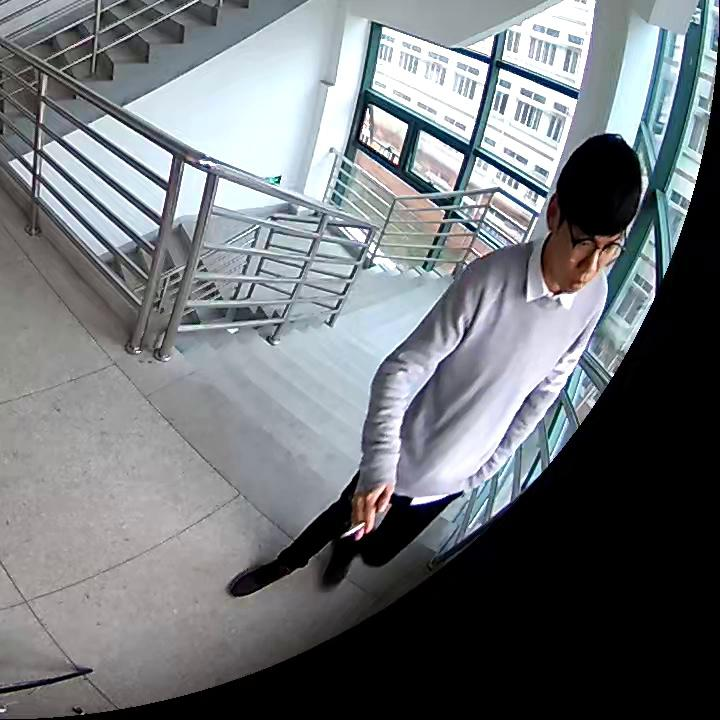handsmoke: (339, 485, 394, 539)
mouthwithoutsmoke: (544, 132, 644, 293)
